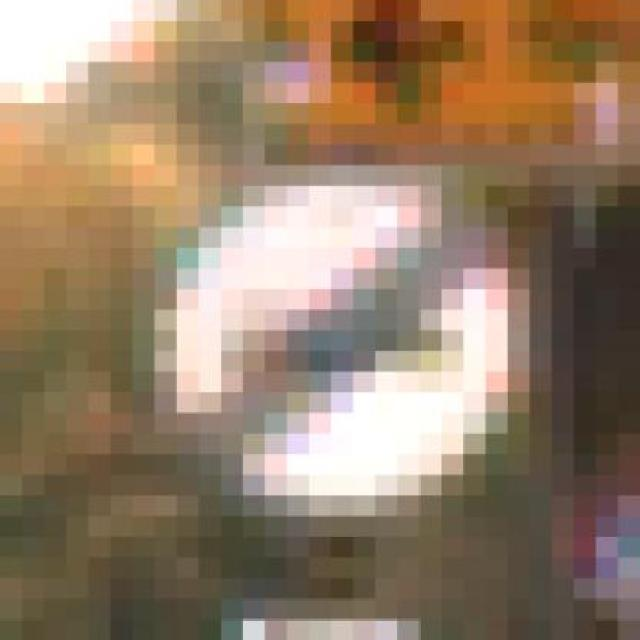No_Over_Taking: (66, 124, 596, 578)
